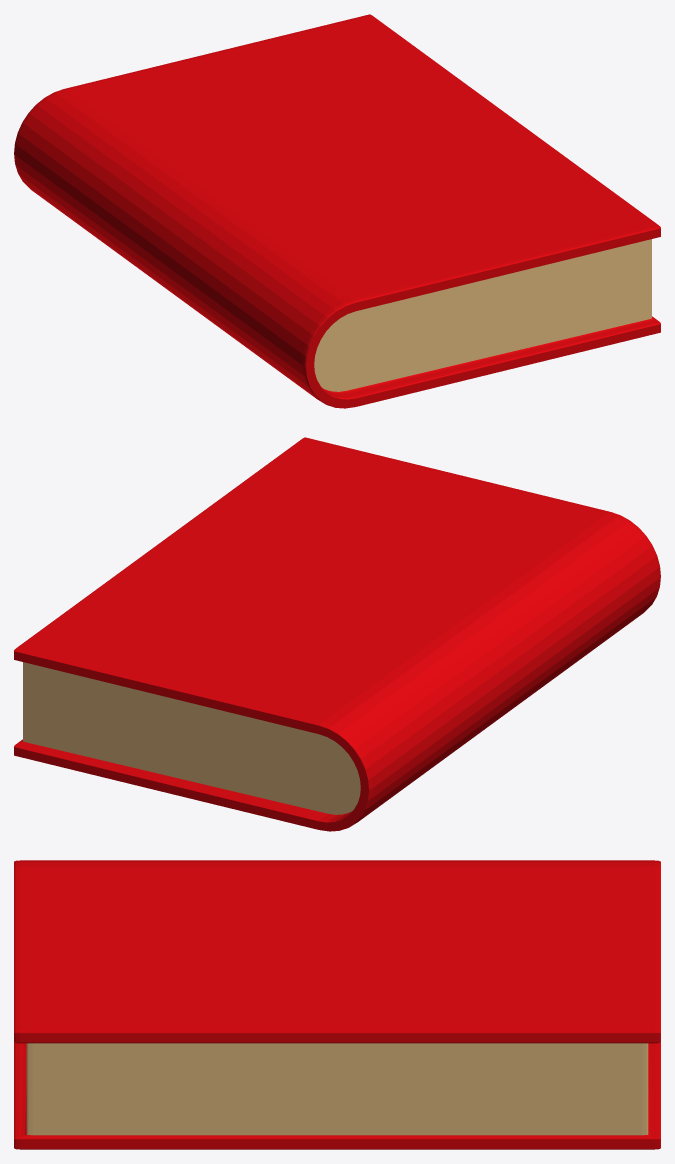
The model's file is BookRed.fbx.
The picture shows the model from 3 angles, top to bottom: view 1: azimuth 30°, elevation 25°; view 2: azimuth 150°, elevation 25°; view 3: azimuth 270°, elevation 25°; orthographic projection. The views are drawn at different scales.
Visible parts, largest first — view 1: Book; view 2: Book; view 3: Book.
Boxes of the visible parts, left/top/right/bottom form: Book: left=14, top=14, right=660, bottom=408; Book: left=14, top=437, right=660, bottom=831; Book: left=14, top=860, right=660, bottom=1149.
Size of the model in its own units: 702 by 200 by 995.
